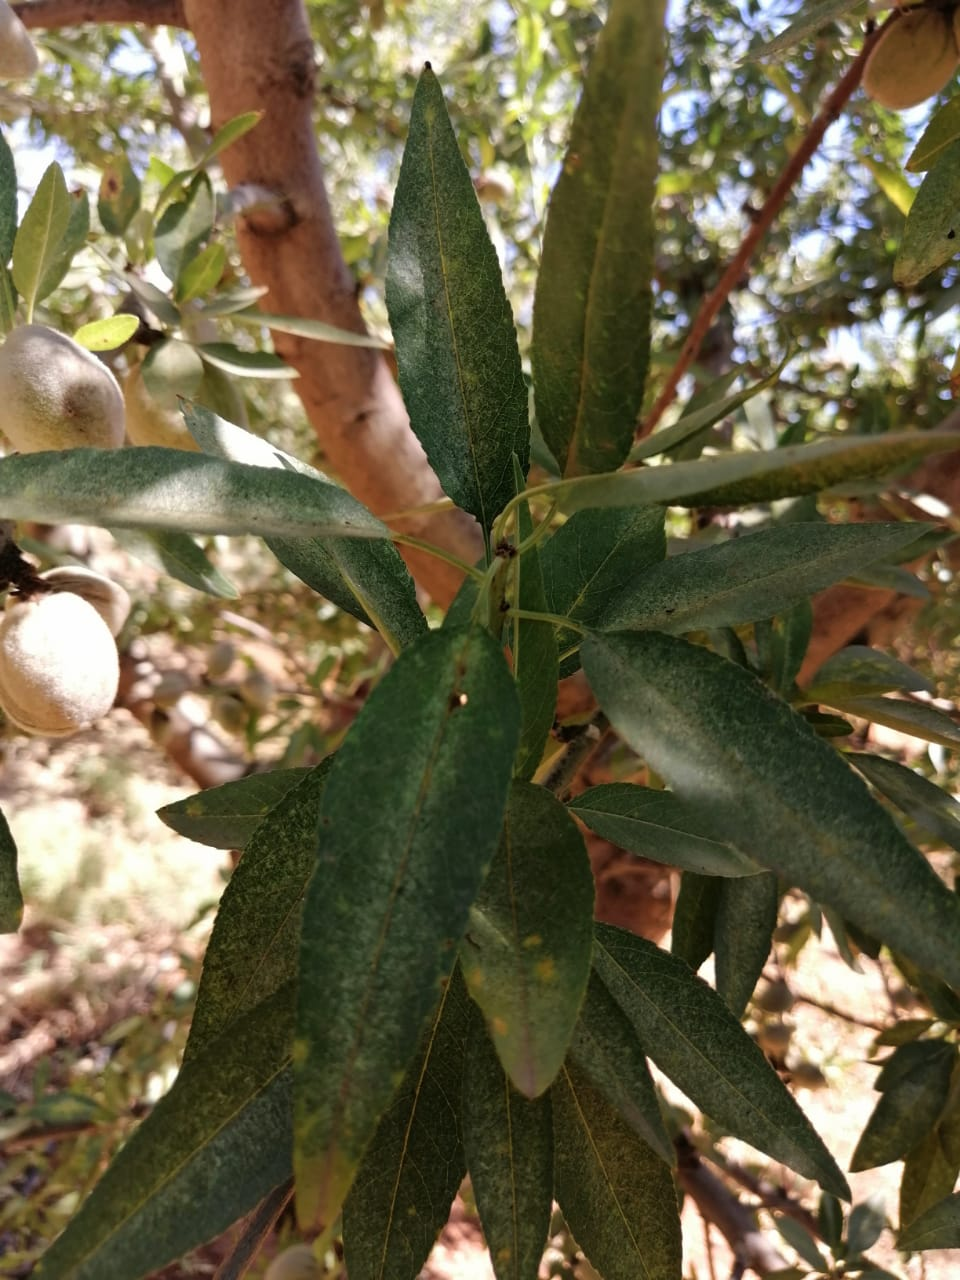acariens: (291, 617, 522, 1257), (579, 633, 960, 1015), (591, 921, 856, 1206), (383, 61, 530, 529), (592, 523, 960, 634), (1, 442, 395, 544)
